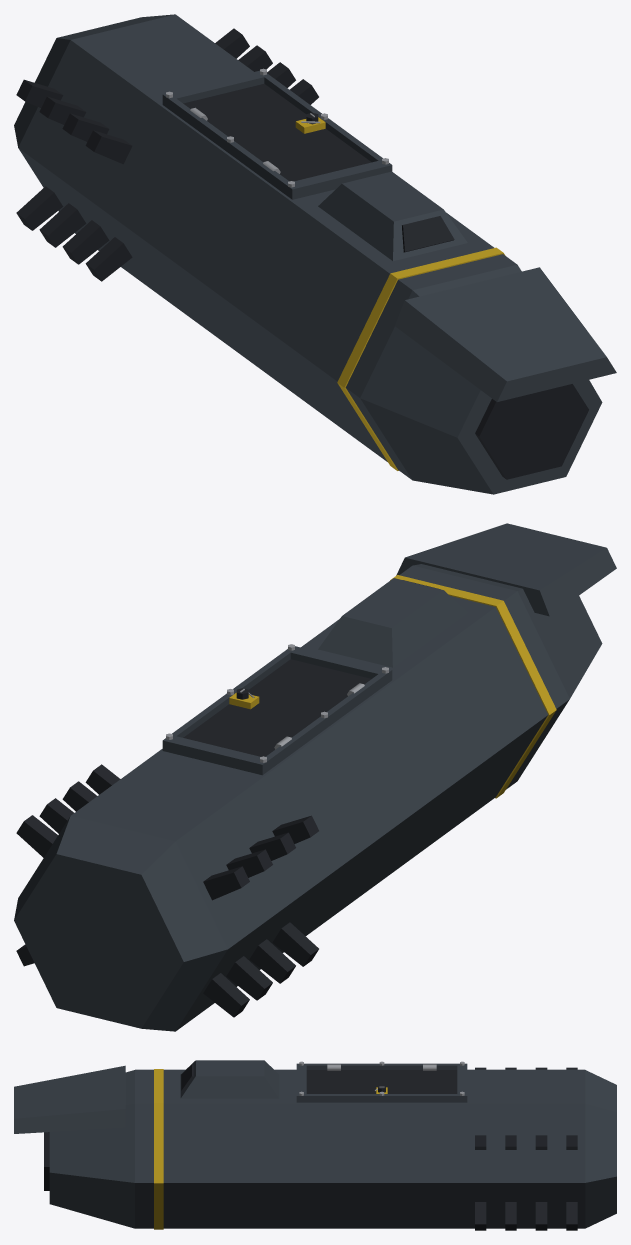
File: bt4_emitter.obj
3 views of the same model, one above another, from view 1: azimuth 30°, elevation 25°; view 2: azimuth 150°, elevation 25°; view 3: azimuth 270°, elevation 25° (orthographic). The views are drawn at different scales.
Parts seen in each view (by area): view 1: bt4_emitter; view 2: bt4_emitter; view 3: bt4_emitter.
Boxes of the visible parts, box(x1,y1,x2,y2) form: bt4_emitter: box(14, 14, 616, 494); bt4_emitter: box(14, 523, 616, 1031); bt4_emitter: box(14, 1060, 616, 1230).
Size of the model in its own units: 0.9011 by 0.8391 by 3.17.
